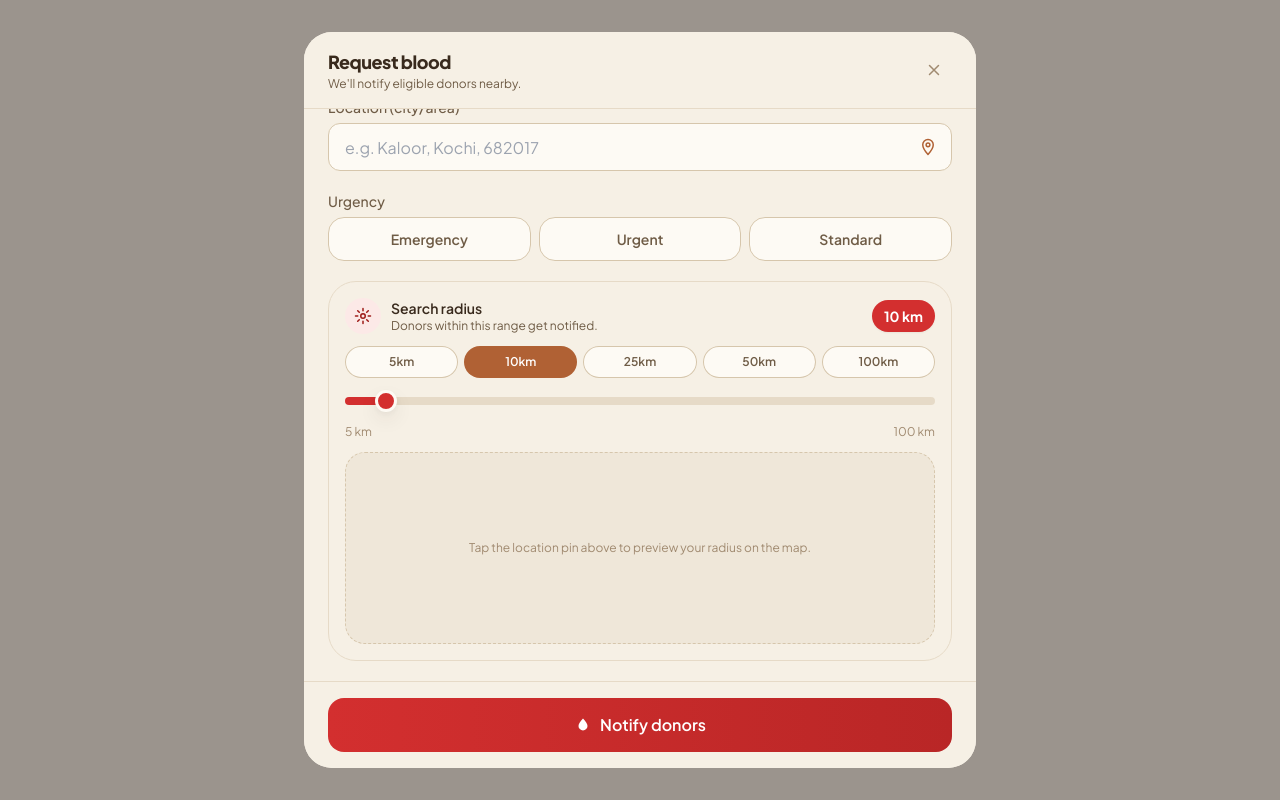
Test case: BloodRequestFormModal › TC-CHH-F04-20: updates the radius readout when the slider changes
(page scrolled)
Set the slider named "search radius in kilometers" to "50" at (625,401), box [345,390,935,412]
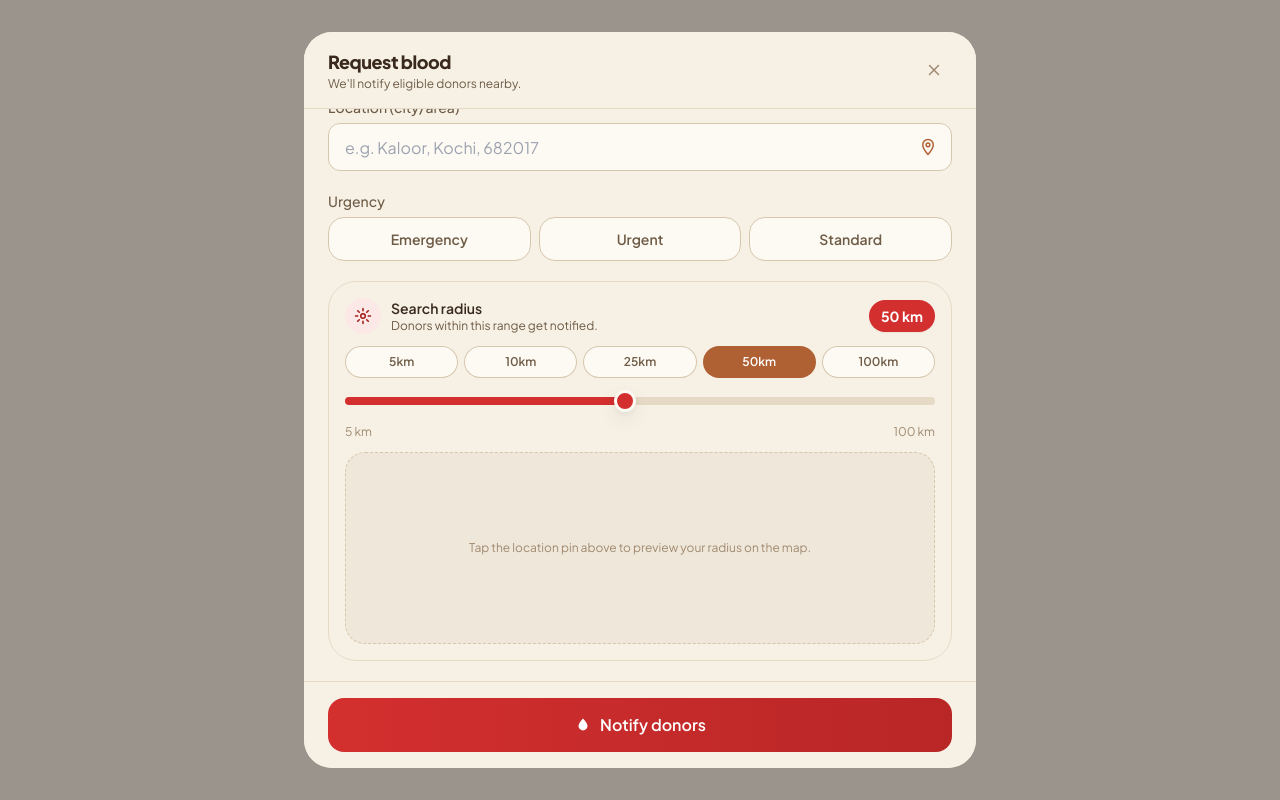
Result: the text "50 km" is shown at [869,300,935,332]
